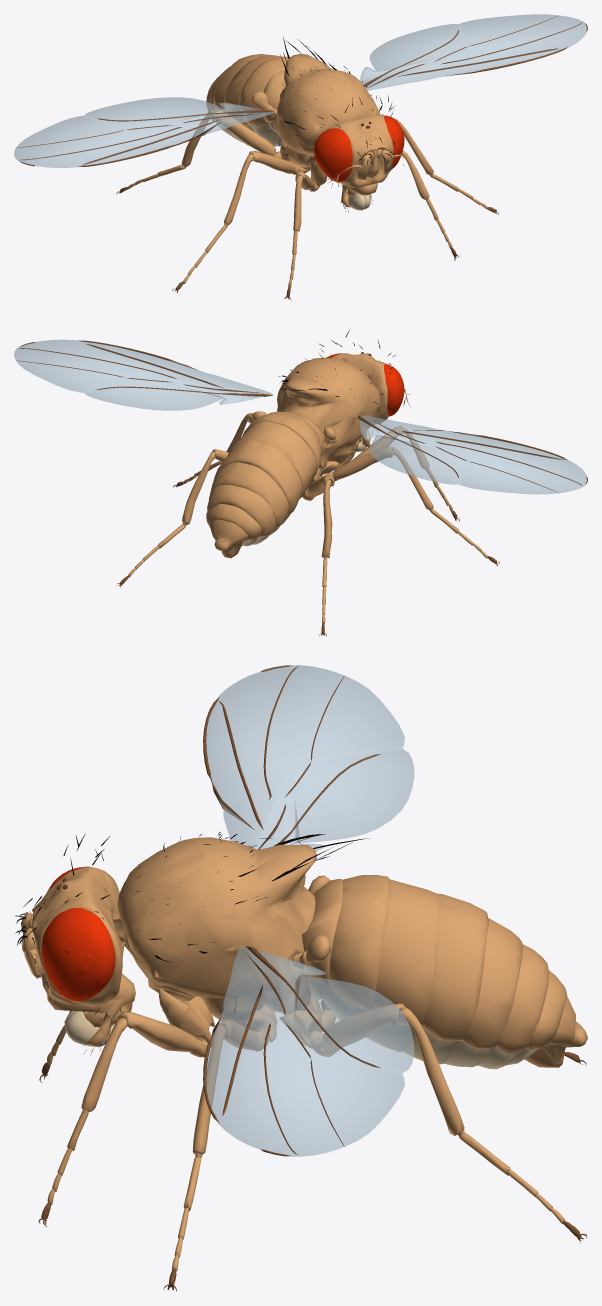
The model's file is fruitfly.glb.
The picture shows the model from 3 angles, top to bottom: view 1: azimuth 30°, elevation 25°; view 2: azimuth 150°, elevation 25°; view 3: azimuth 270°, elevation 25°; orthographic projection. The views are drawn at different scales.
Visible parts, largest first — view 1: body_body, wing_right_membrane, wing_left_membrane, body_red, wing_right_brown, wing_left_brown, body_lower, body_black; view 2: body_body, wing_right_membrane, wing_left_membrane, wing_left_brown, wing_right_brown, body_red; view 3: body_body, wing_left_membrane, wing_right_membrane, body_red, body_lower, wing_left_brown, wing_right_brown, body_black.
Part boxes in pixels (box(x1,y1,x2,y2)): body_body: box(128, 54, 487, 287); wing_right_membrane: box(14, 97, 272, 167); wing_left_membrane: box(360, 14, 586, 90); body_red: box(314, 115, 404, 181); wing_right_brown: box(17, 109, 273, 166); wing_left_brown: box(363, 15, 587, 87); body_lower: box(215, 121, 370, 210); body_black: box(279, 35, 395, 194); body_body: box(128, 353, 487, 623); wing_right_membrane: box(359, 415, 586, 494); wing_left_membrane: box(14, 339, 272, 410); wing_left_brown: box(17, 340, 272, 396); wing_right_brown: box(358, 415, 587, 492); body_red: box(326, 353, 404, 416); body_body: box(20, 837, 587, 1271); wing_left_membrane: box(206, 946, 414, 1156); wing_right_membrane: box(206, 665, 414, 850); body_red: box(41, 866, 115, 1001); body_lower: box(65, 976, 535, 1069); wing_left_brown: box(203, 946, 380, 1156); wing_right_brown: box(203, 665, 380, 849); body_black: box(15, 832, 369, 1026).
Bounding box in the file's own units: 0.6109 × 0.1844 × 0.3014.
